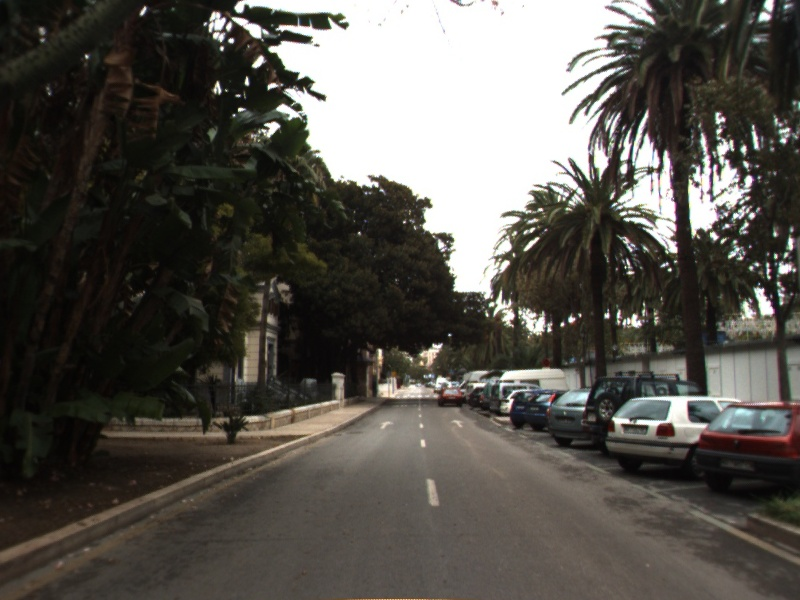STRAIGHT: (377, 419, 396, 431), (448, 417, 466, 429)
